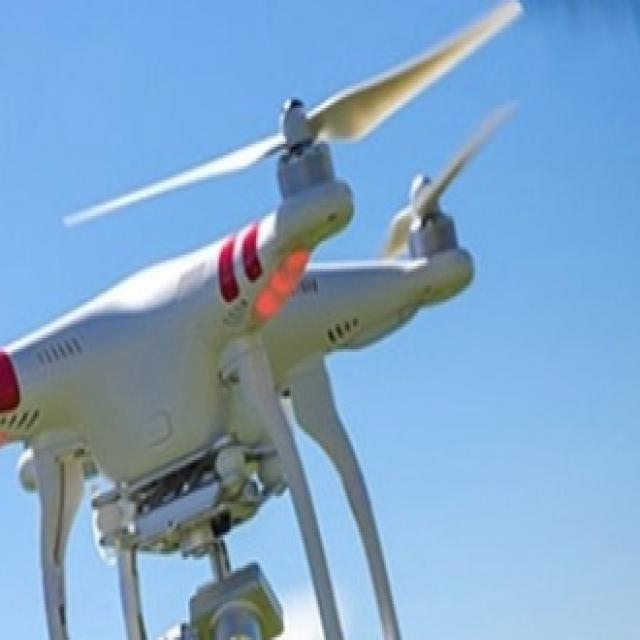drone: (0, 19, 555, 560)
